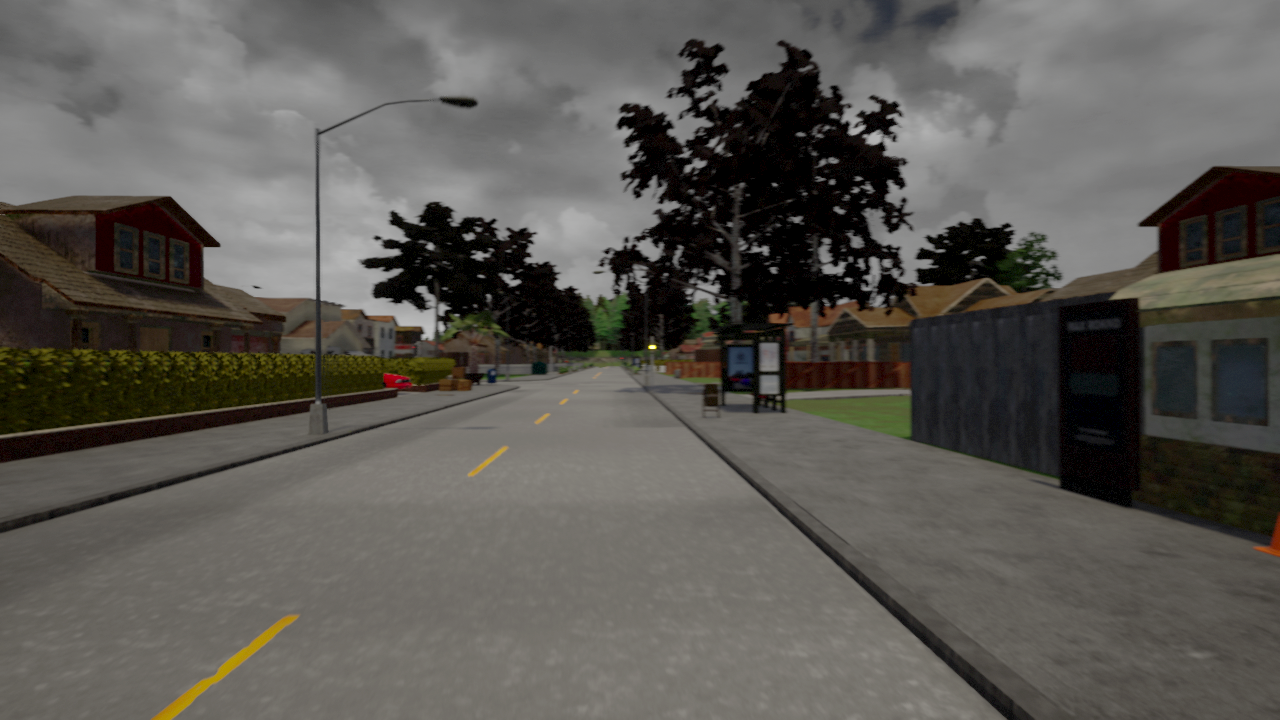yellow: (648, 338, 658, 356)
